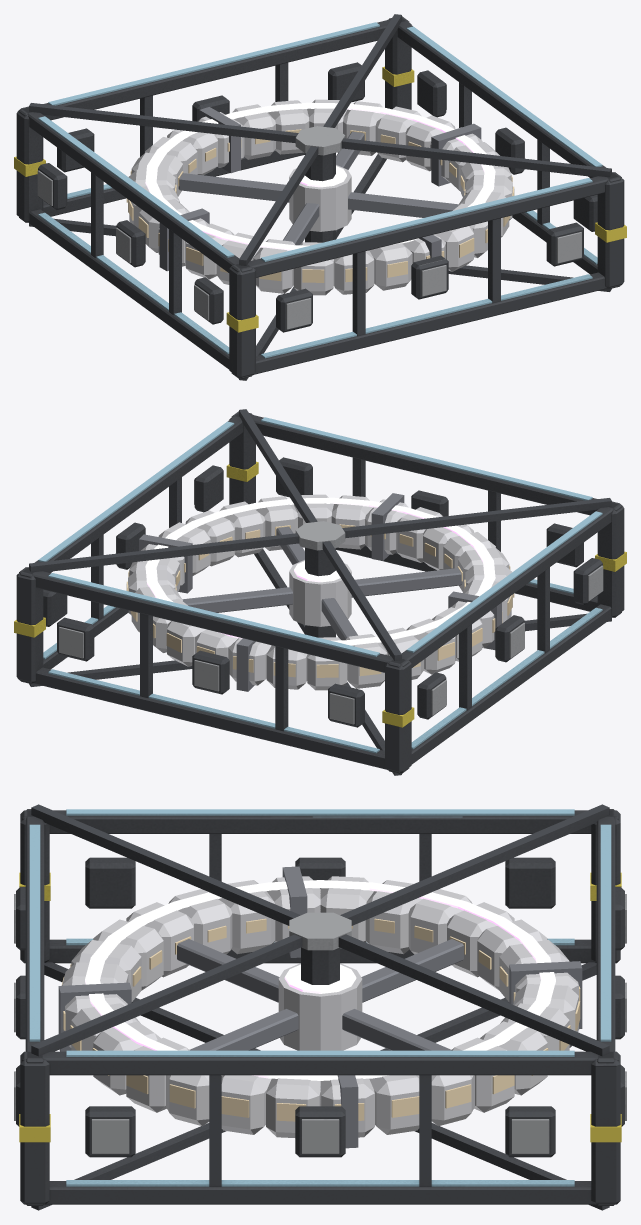
File: SM_RotatingRing.fbx
3 renders of one model, top to bottom at view 1: azimuth 30°, elevation 25°; view 2: azimuth 150°, elevation 25°; view 3: azimuth 270°, elevation 25°, orthographic. The views are drawn at different scales.
Visible parts, largest first — view 1: SMN_RotatingRing, Spin; view 2: SMN_RotatingRing, Spin; view 3: SMN_RotatingRing, Spin.
Part boxes in pixels (<box>): SMN_RotatingRing: <box>14,14,626,380</box>; Spin: <box>126,99,514,295</box>; SMN_RotatingRing: <box>14,409,626,775</box>; Spin: <box>126,493,514,691</box>; SMN_RotatingRing: <box>14,804,626,1210</box>; Spin: <box>58,866,582,1148</box>.
Bounding box in the file's own units: 2.92 × 0.86 × 2.92.
